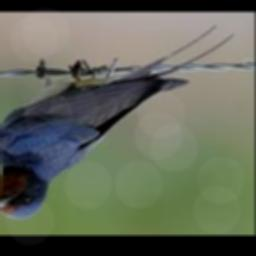Swallow: (0, 24, 234, 219)
